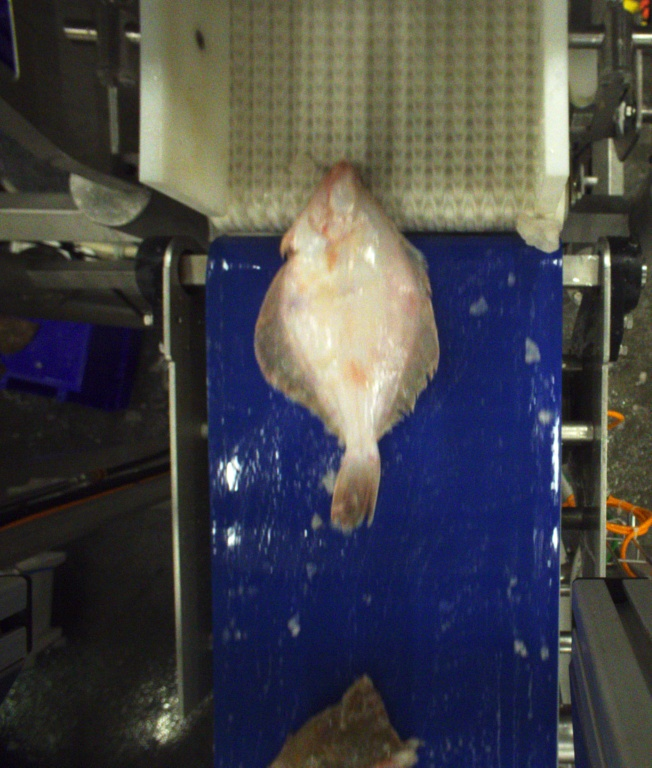PLE: (254, 162, 439, 528)
